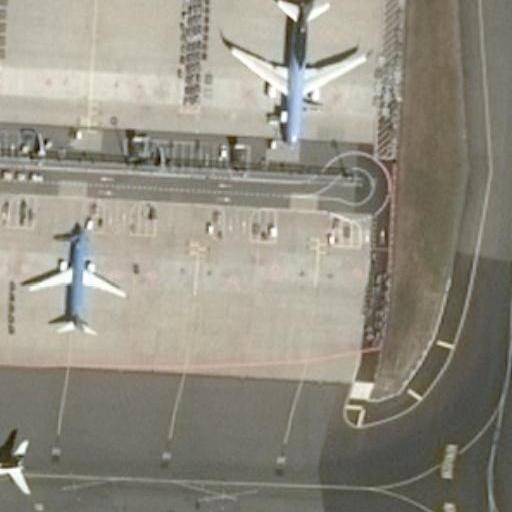Aircraft: (222, 0, 368, 150), (18, 224, 126, 334), (0, 381, 38, 512)
